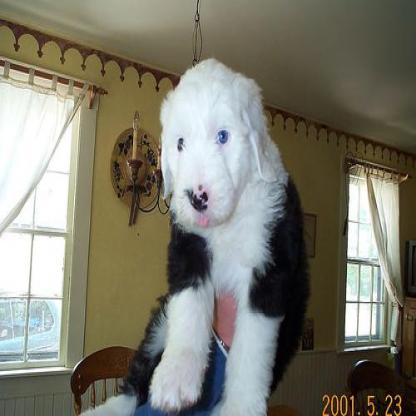Old_English_sheepdog: (79, 55, 308, 411)
